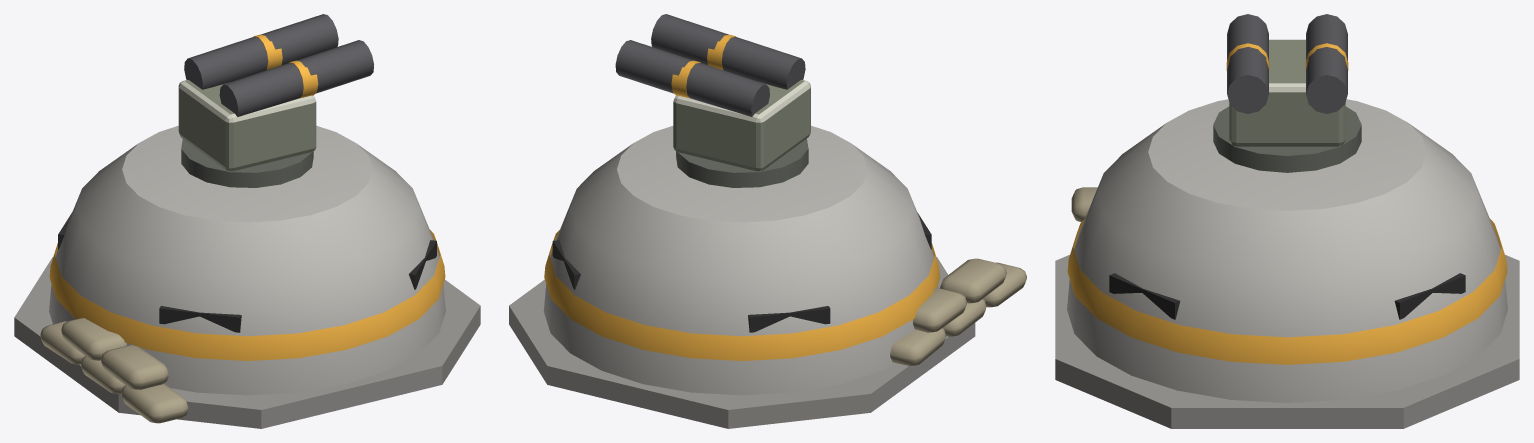
Rendered from rocket_bunker_orange.glb.
The picture shows the model from 3 angles, left to right: view 1: azimuth 30°, elevation 25°; view 2: azimuth 150°, elevation 25°; view 3: azimuth 270°, elevation 25°; orthographic projection. The views are drawn at different scales.
Visible parts, largest first — view 1: Body, Turret, Barrel; view 2: Body, Turret, Barrel; view 3: Body, Turret, Barrel.
Boxes of the visible parts, x1,y1,x2,y2 form: Body: [14, 125, 480, 428]; Turret: [178, 80, 316, 187]; Barrel: [184, 14, 373, 116]; Body: [509, 125, 1026, 428]; Turret: [673, 80, 810, 187]; Barrel: [615, 14, 805, 116]; Body: [1055, 99, 1519, 428]; Turret: [1213, 39, 1361, 172]; Barrel: [1226, 14, 1348, 113].
Bounding box in the file's own units: 2.07 × 1.47 × 2.
1 material, 1 textured.
